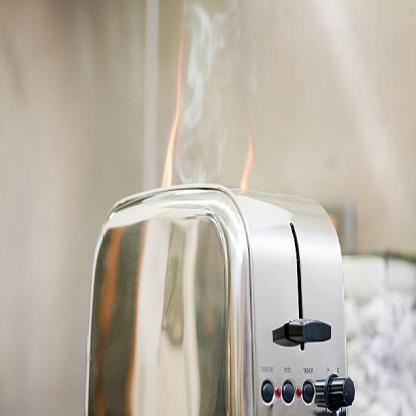fire: (156, 38, 187, 187), (233, 146, 255, 193)
smoke: (175, 3, 247, 199)
